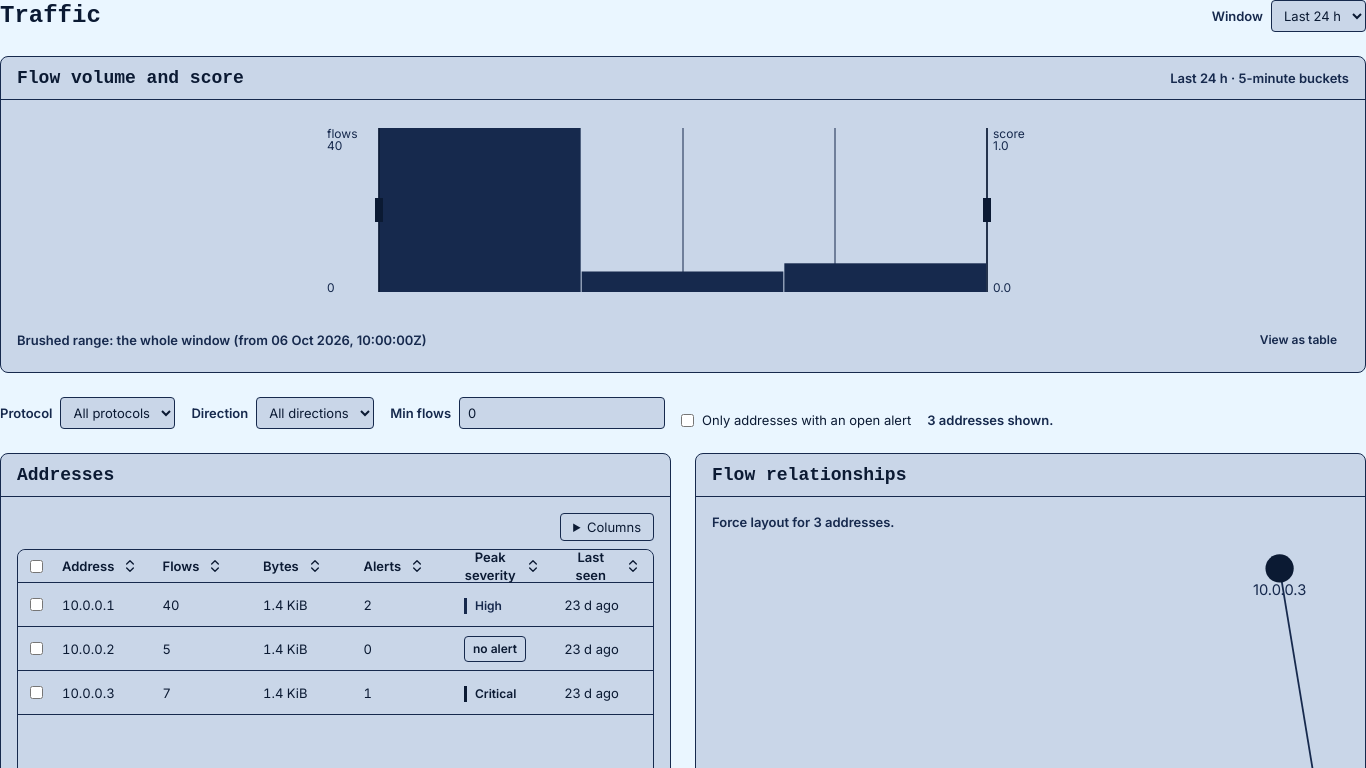
TrafficPage › filters the panels below the controls and says how many it removed
The image size is (1366, 768).
Type "10" into the number field labelled "Min flows". click: (562, 413)
box: [459,397,665,429]
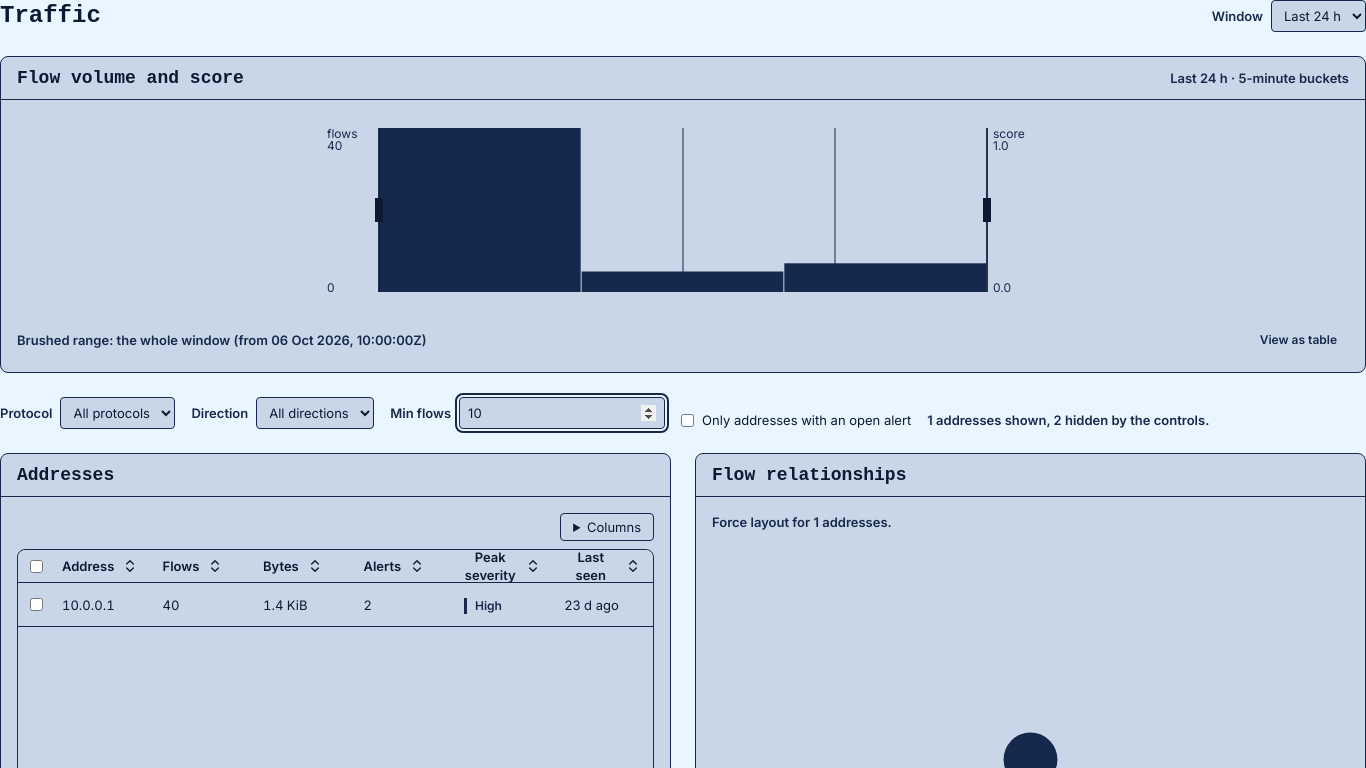
Result: the text "1 addresses shown, 2 hidden by the controls." is shown at [927,411,1209,429]
Result: the button "10.0.0.2" is gone
